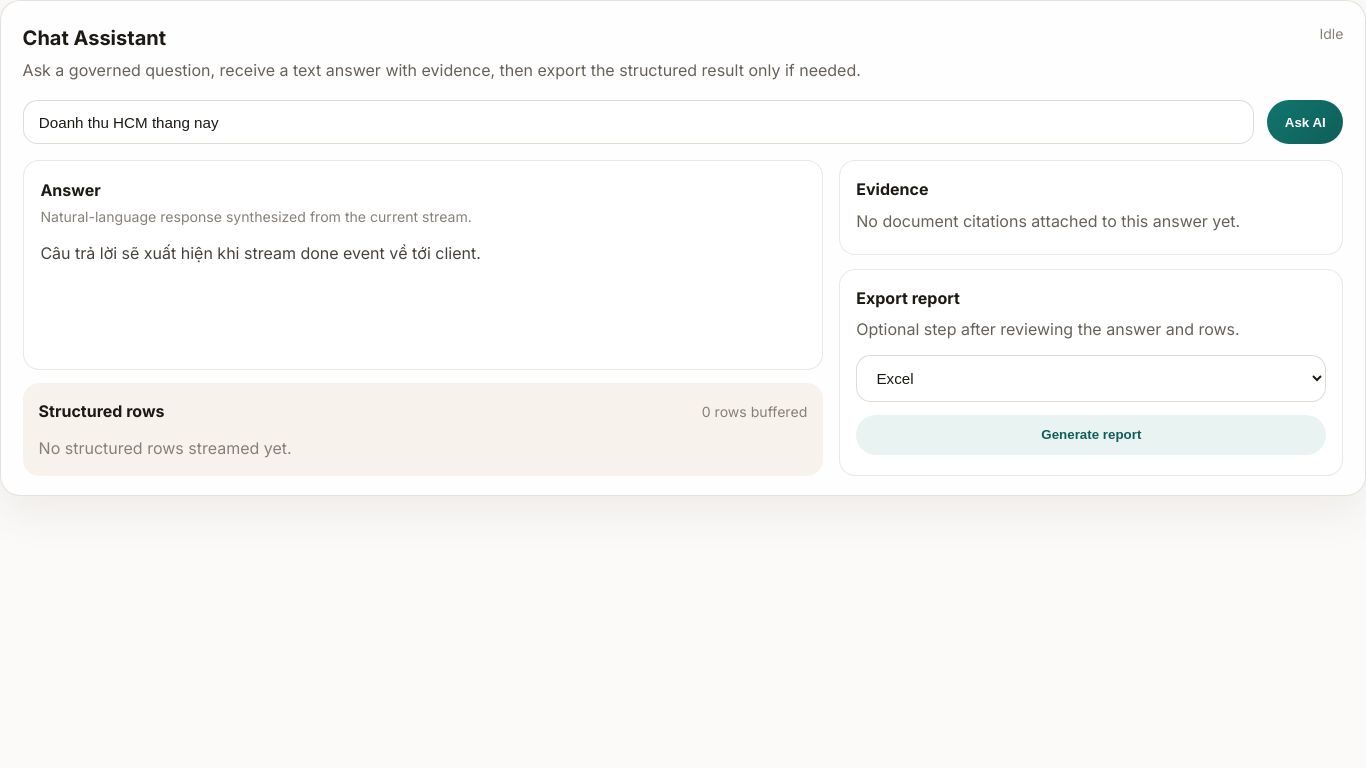
it: ChatAssistantConsole › renders cross-source conflict card and provenance drawer from done event metadata
The width and height of the screenshot is (1366, 768).
Click the button "Ask AI" at (1305, 122), box left=1267, top=100, right=1343, bottom=144
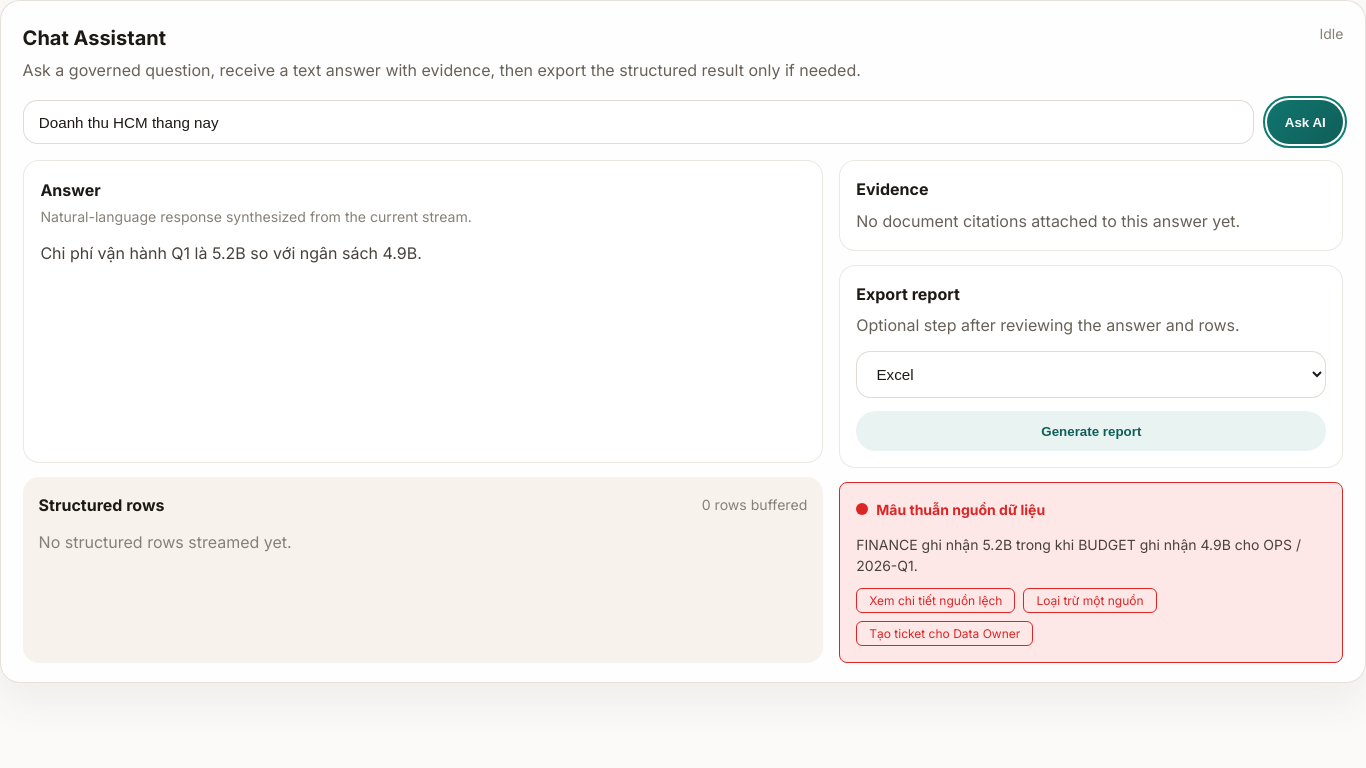
Check: the text "FINANCE ghi nhận 5.2B" is shown, box left=856, top=536, right=1301, bottom=574
Click the button "Xem chi tiết nguồn lệch" at (936, 600), box left=856, top=588, right=1016, bottom=613
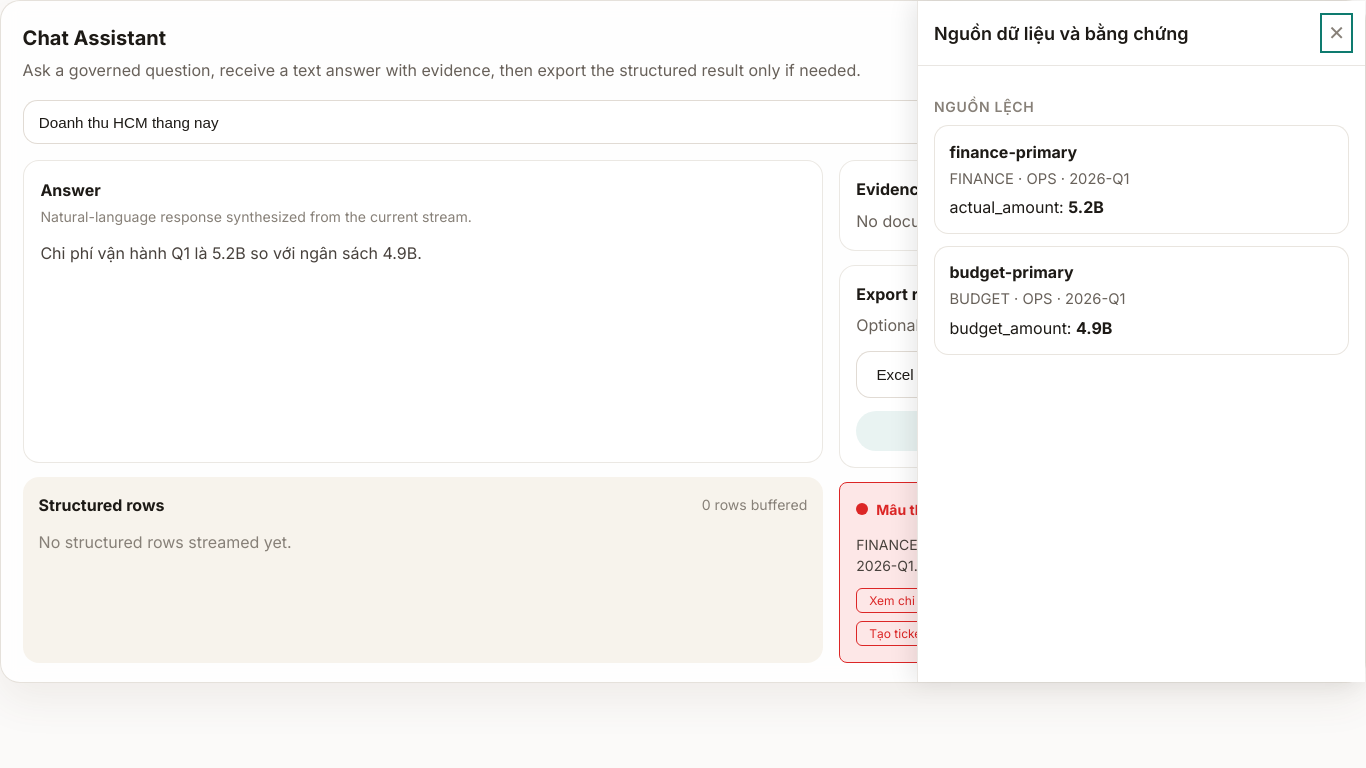
Check: the element with test id "provenance-drawer" is shown, box left=917, top=1, right=1365, bottom=682
Check: the text "finance-primary" is shown, box left=949, top=142, right=1077, bottom=162
Check: the text "budget-primary" is shown, box left=949, top=262, right=1074, bottom=282
